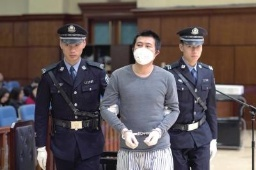correctlyWear: (131, 39, 159, 65)
noWear: (58, 36, 86, 61), (177, 40, 202, 63)
